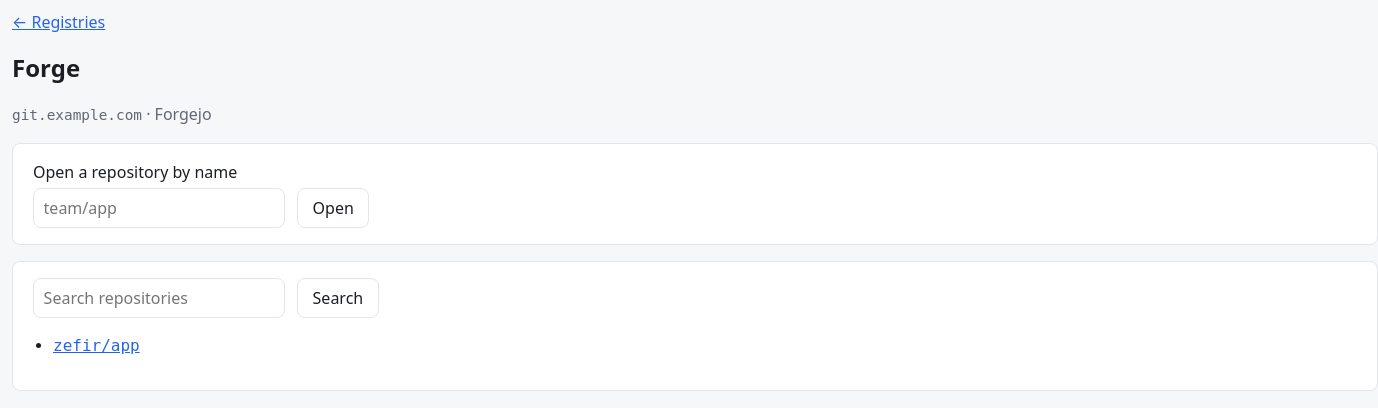
Test case: RegistryView › searches
Type " db " into the search field named "q" at x=159, y=298, box [33, 278, 285, 318]
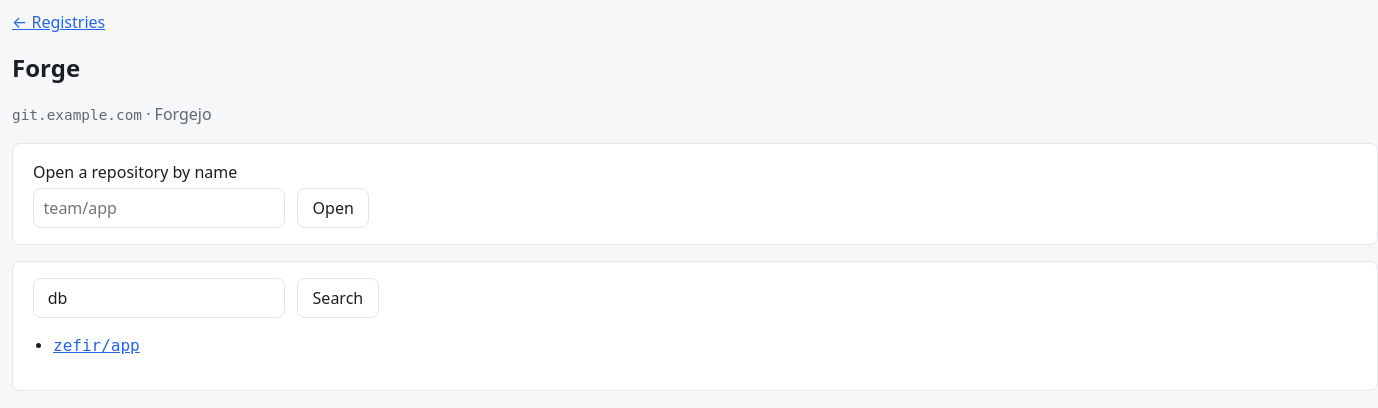
Submit the form "Search", box [33, 278, 379, 318]
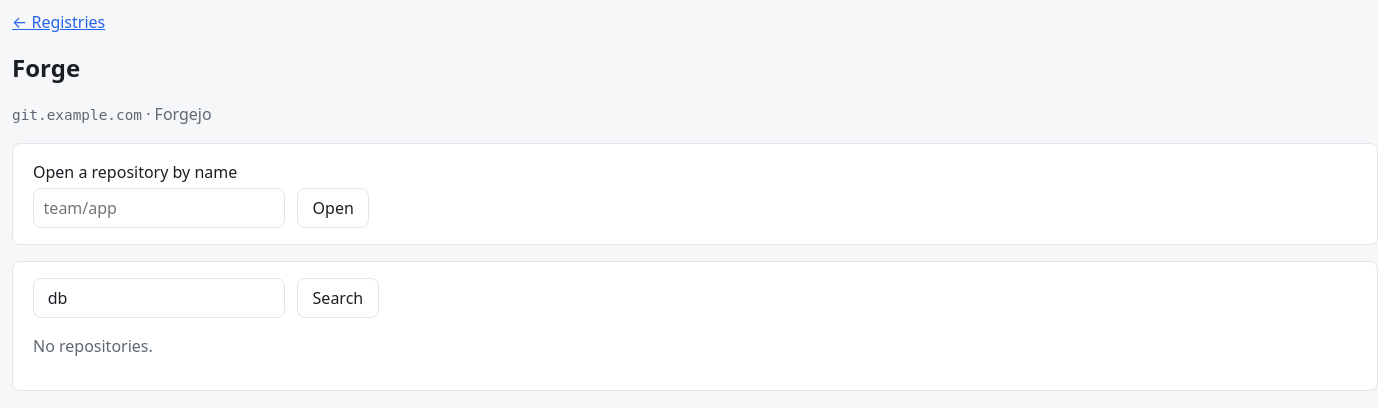
Now the text "No repositories." is shown, box [33, 335, 153, 357]
